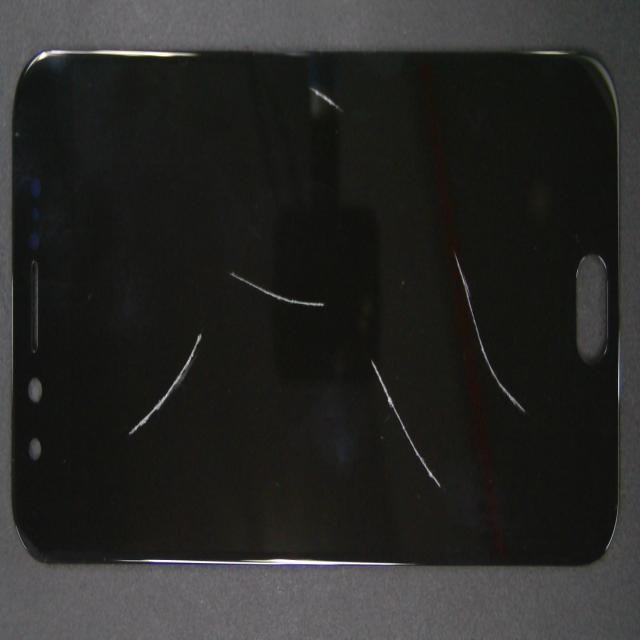scratch: (454, 254, 526, 416), (368, 353, 442, 492), (129, 337, 200, 434), (224, 255, 330, 319), (305, 81, 349, 117)
